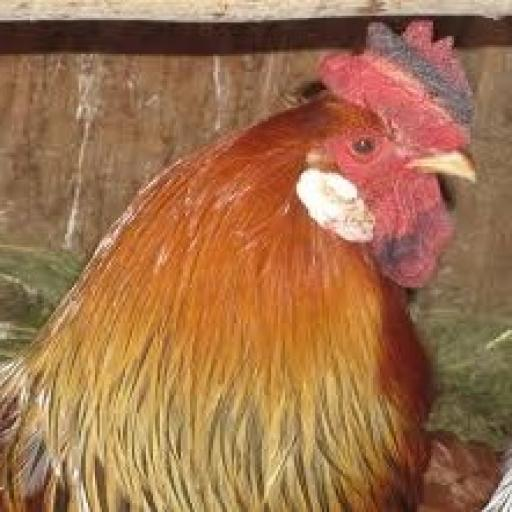disease: (364, 10, 486, 134), (308, 135, 388, 258)
